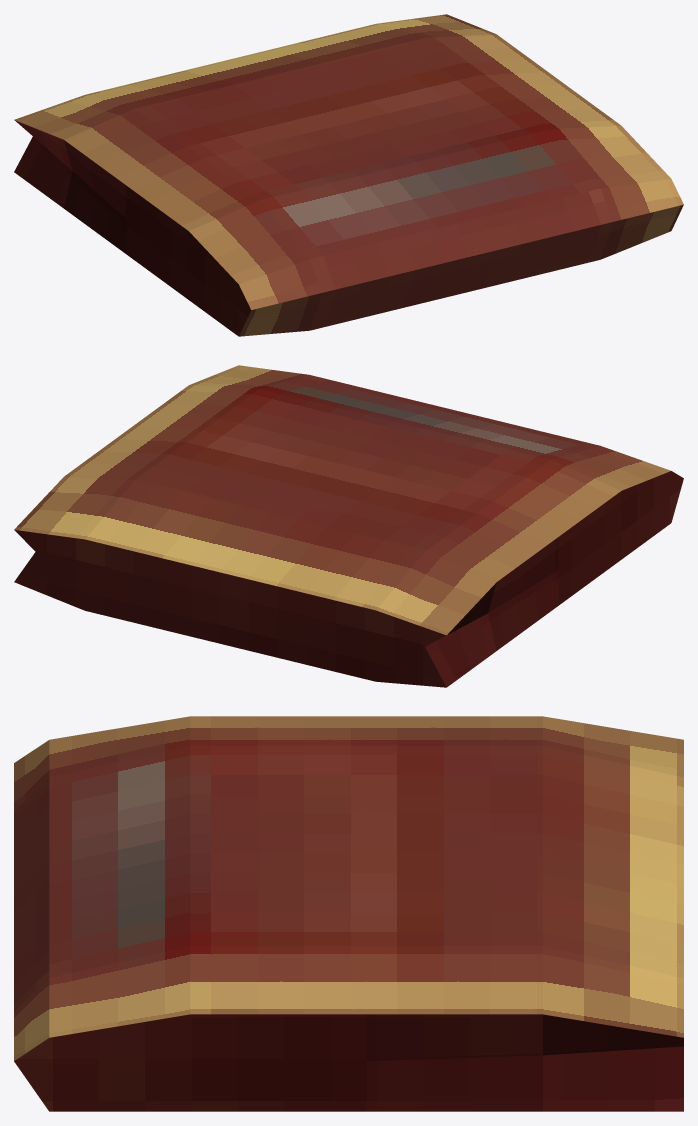
The model's file is notreal-wallet.fbx.
The picture shows the model from 3 angles, top to bottom: view 1: azimuth 30°, elevation 25°; view 2: azimuth 150°, elevation 25°; view 3: azimuth 270°, elevation 25°; orthographic projection. The views are drawn at different scales.
Visible parts, largest first — view 1: Cube; view 2: Cube; view 3: Cube.
Boxes of the visible parts, x1,y1,x2,y2 form: Cube: (14, 14, 683, 336); Cube: (14, 365, 683, 687); Cube: (14, 716, 683, 1111).
Bounding box in the file's own units: 50 × 10.38 × 47.5.
